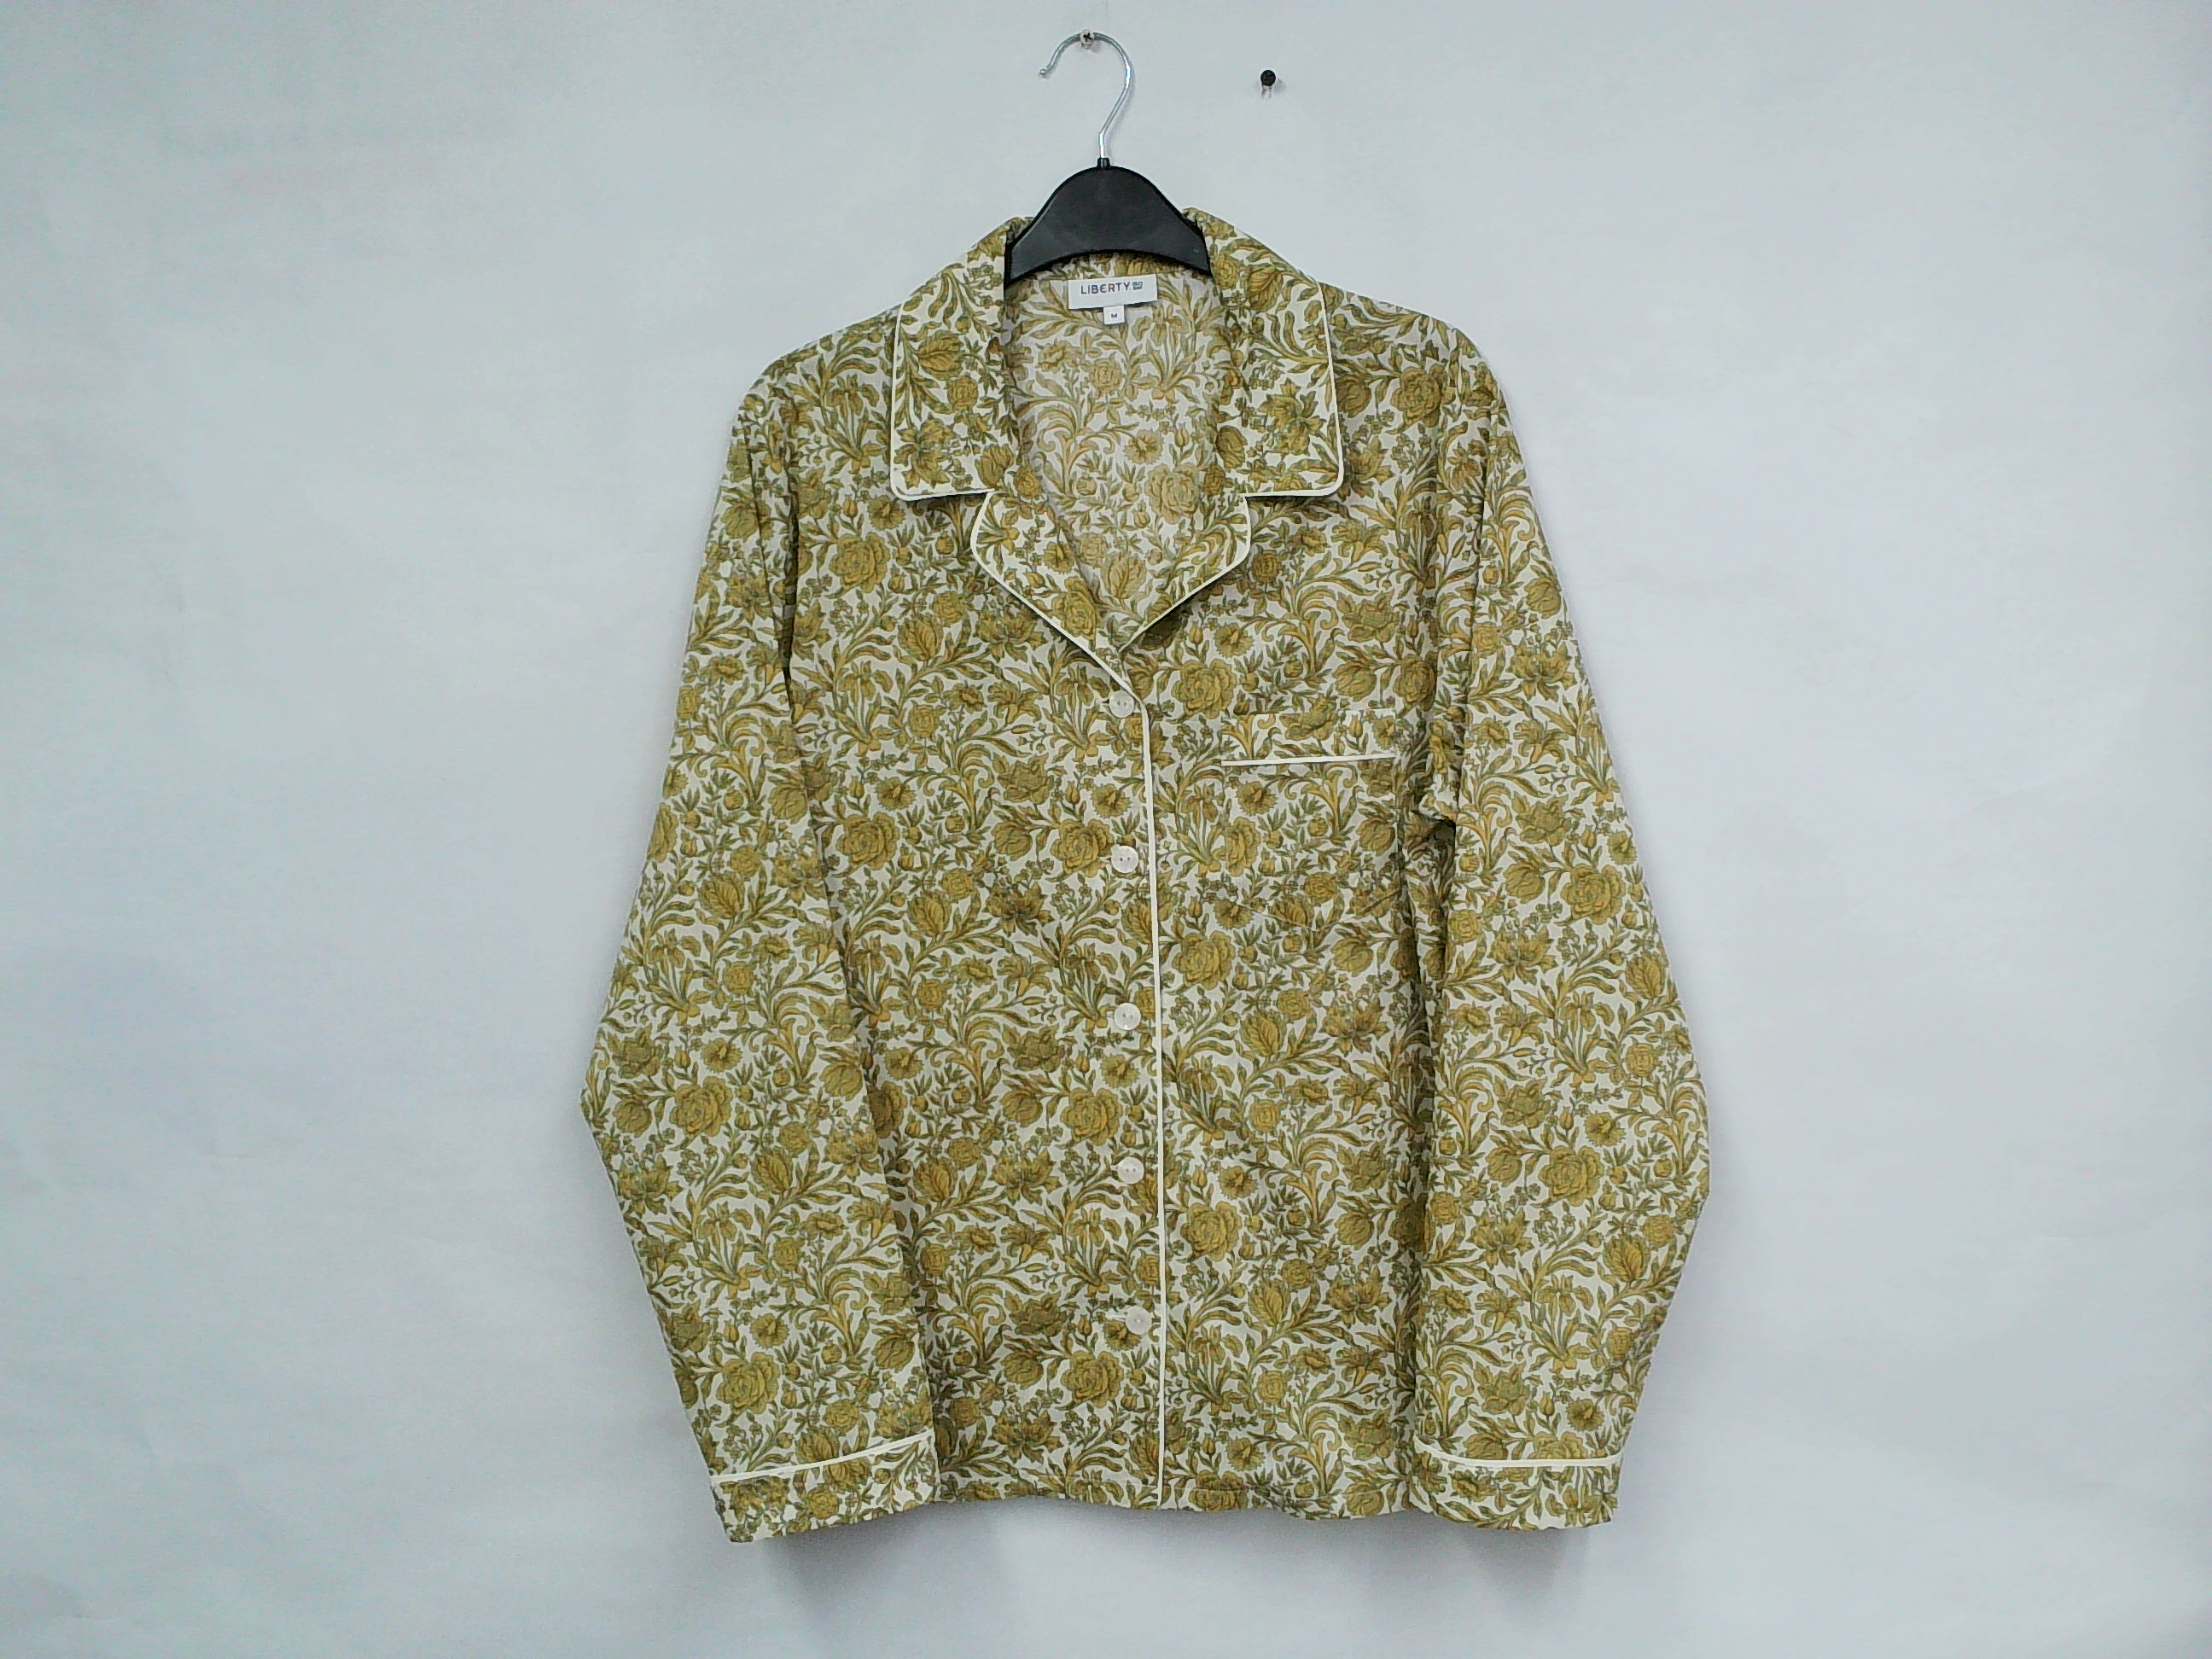bad_fabric: (1385, 293, 1515, 488)
